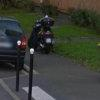Motorcycle: (28, 14, 57, 50)
